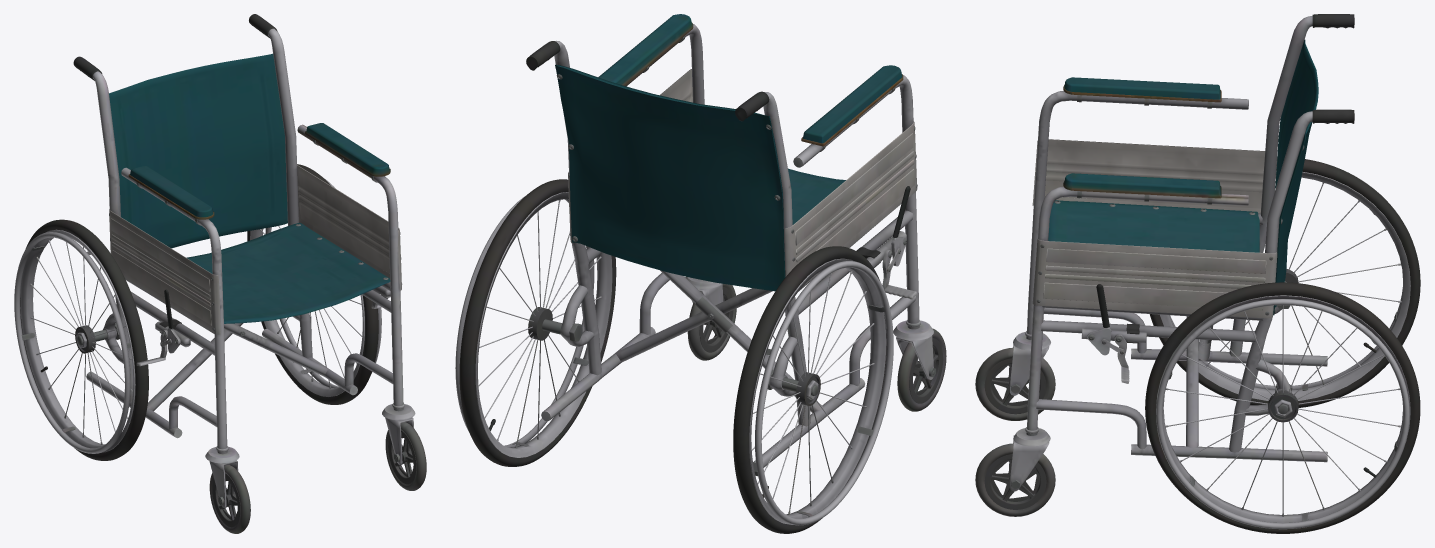
The model's file is wheelchair_01.glb.
3 renders of one model, left to right at view 1: azimuth 30°, elevation 25°; view 2: azimuth 150°, elevation 25°; view 3: azimuth 270°, elevation 25°, orthographic. The views are drawn at different scales.
Visible parts, largest first — view 1: wheelchair_01; view 2: wheelchair_01; view 3: wheelchair_01.
Part boxes in pixels (x1,y1,x2,y2): wheelchair_01: (14,14,426,533); wheelchair_01: (455,14,946,533); wheelchair_01: (975,14,1420,533).
Bounding box in the file's own units: 0.8241 × 1.1 × 1.09.
1 material, 1 textured.
